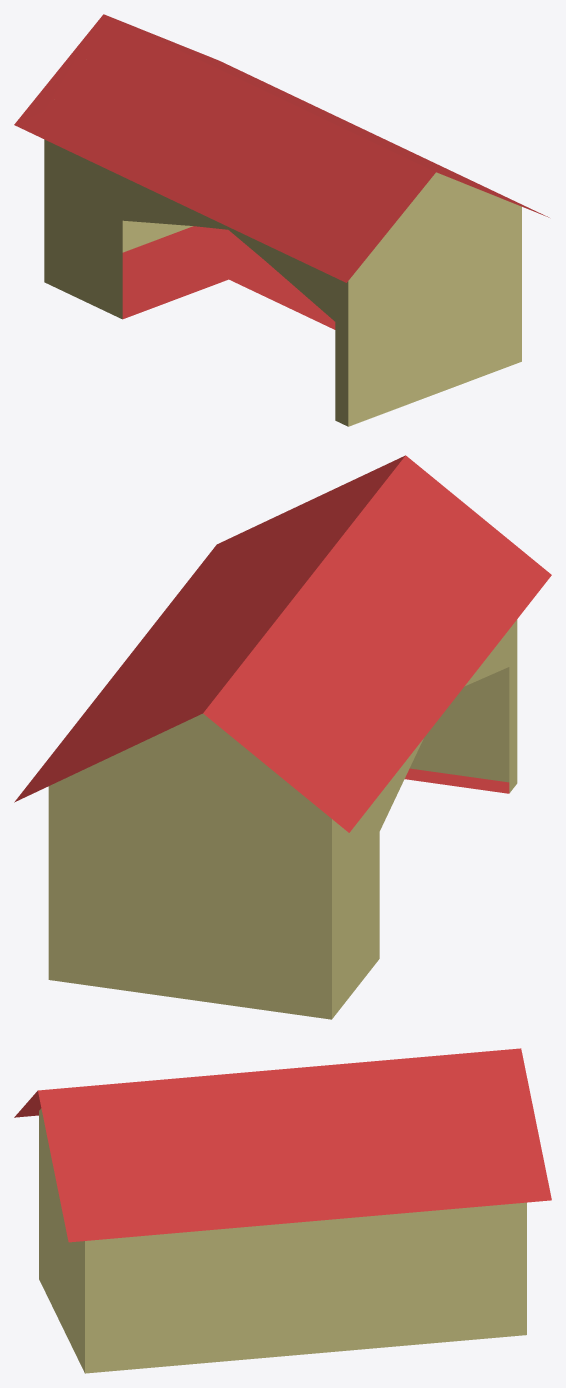
3 views of the same model, one above another, from view 1: azimuth 30°, elevation 25°; view 2: azimuth 150°, elevation 25°; view 3: azimuth 270°, elevation 25° (orthographic). The views are drawn at different scales.
Size of the model in its own units: 17.31 by 25.53 by 12.06.
